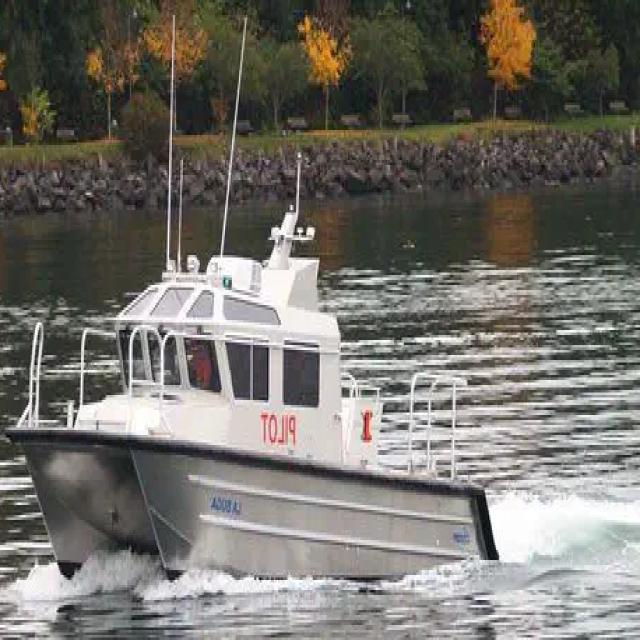houseboat: (13, 195, 494, 602)
